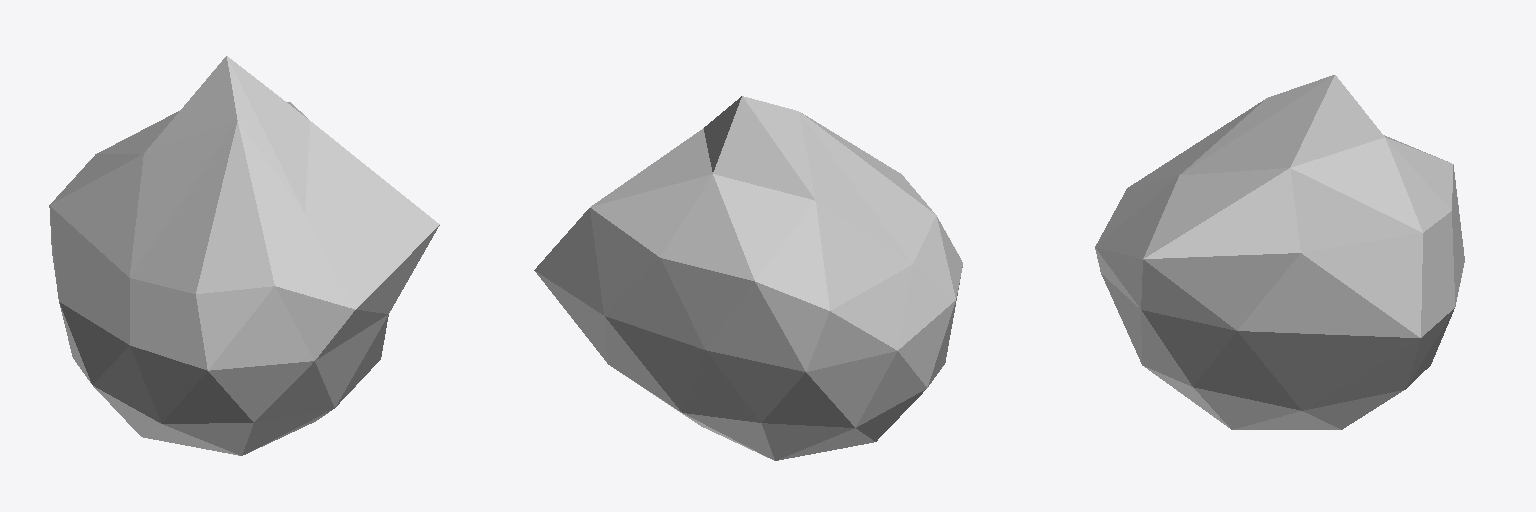
File: rock_2.obj
3 renders of one model, left to right at view 1: azimuth 30°, elevation 25°; view 2: azimuth 150°, elevation 25°; view 3: azimuth 270°, elevation 25°, orthographic.
Parts seen in each view (by area): view 1: Icosphere.001; view 2: Icosphere.001; view 3: Icosphere.001.
Boxes of the visible parts, x1=… form: Icosphere.001: x1=49, y1=56, x2=439, y2=455; Icosphere.001: x1=534, y1=96, x2=962, y2=460; Icosphere.001: x1=1095, y1=75, x2=1464, y2=429.
Size of the model in its own units: 3.87 by 4.09 by 3.8.